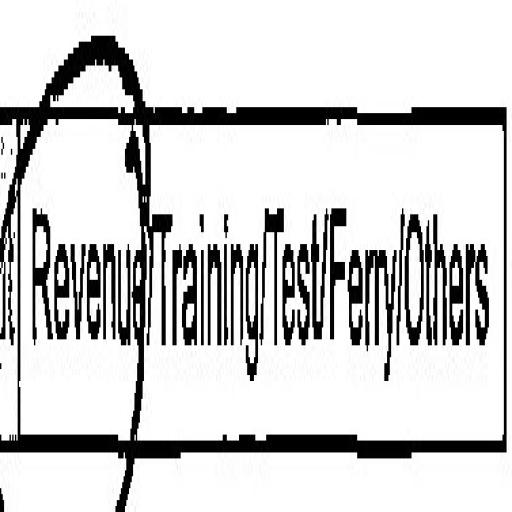check: (18, 0, 154, 512)
